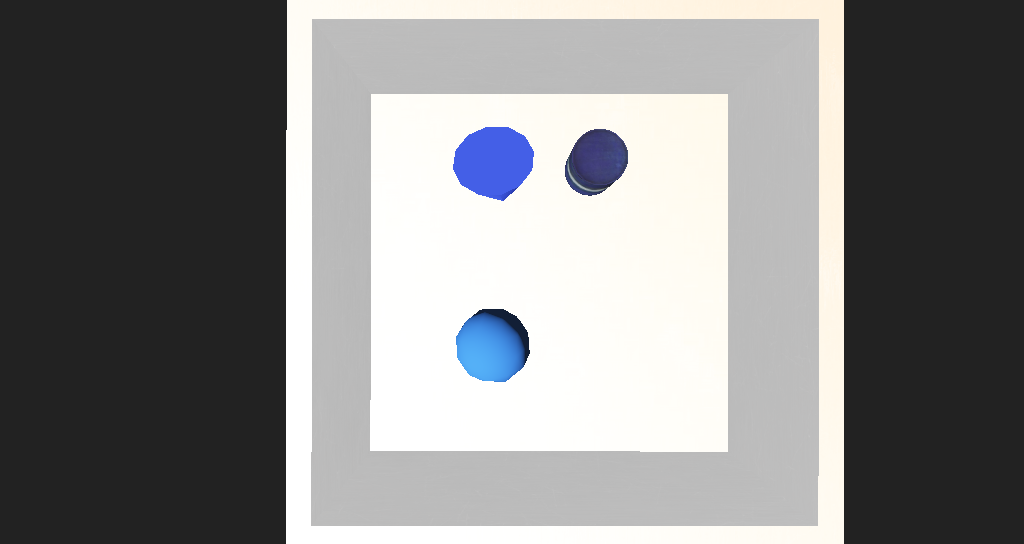cone: (522, 181, 569, 220)
cylinder: (414, 179, 502, 251)
sphere: (428, 286, 488, 334)
